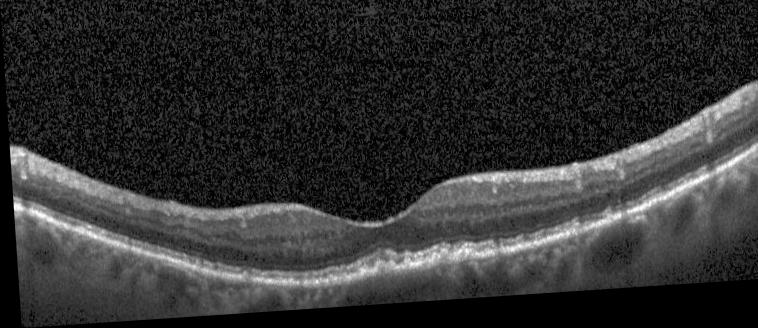retinal_drusen: (452, 255, 472, 268), (604, 218, 620, 230), (568, 230, 582, 243), (516, 245, 529, 259), (372, 267, 384, 281), (435, 257, 444, 270), (489, 252, 500, 262), (582, 229, 592, 239), (238, 274, 247, 285), (383, 267, 391, 279), (358, 275, 369, 283), (428, 260, 436, 271), (399, 262, 406, 274)
